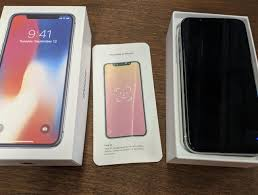iphone10: (180, 17, 258, 154)
